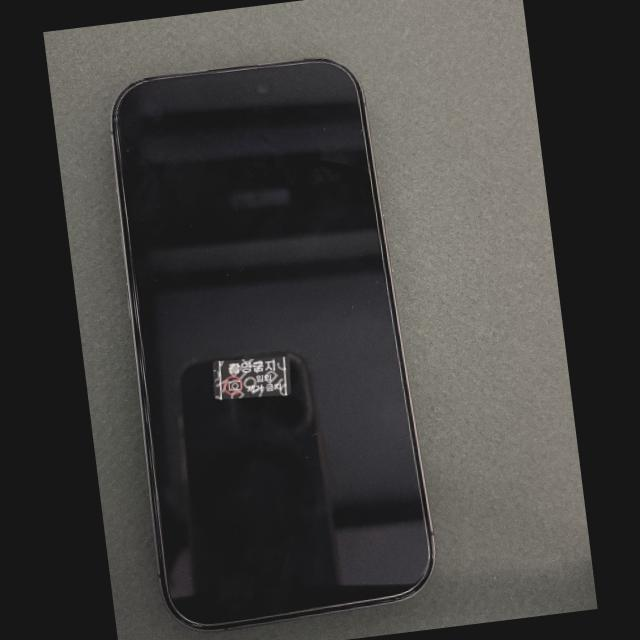lens: (257, 79, 271, 91)
phone: (111, 58, 435, 632)
sticker: (211, 356, 291, 401)
